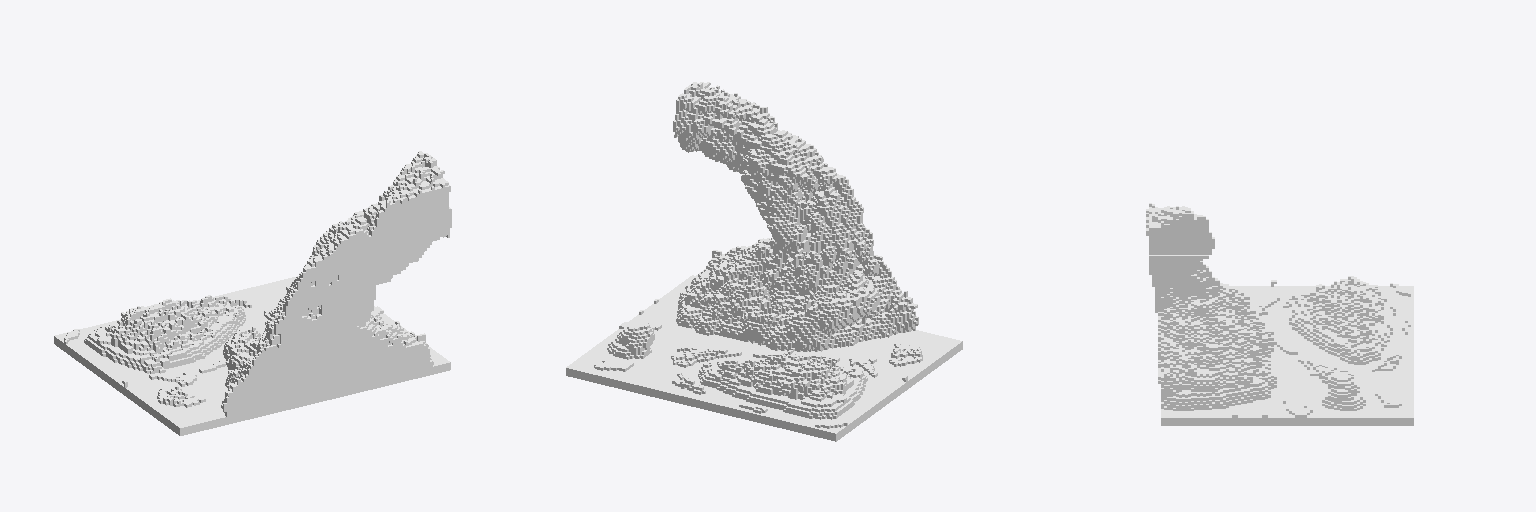
Rendered from Lava_stuff-41.obj.
The picture shows the model from 3 angles: view 1: azimuth 30°, elevation 25°; view 2: azimuth 150°, elevation 25°; view 3: azimuth 270°, elevation 25°; orthographic projection.
Visible parts, largest first — view 1: object 1; view 2: object 1; view 3: object 1.
Boxes of the visible parts, box(x1,y1,x2,y2) form: object 1: box(54, 151, 451, 435); object 1: box(566, 82, 962, 441); object 1: box(1146, 203, 1413, 425).
Bounding box in the file's own units: 21 × 15.4 × 18.